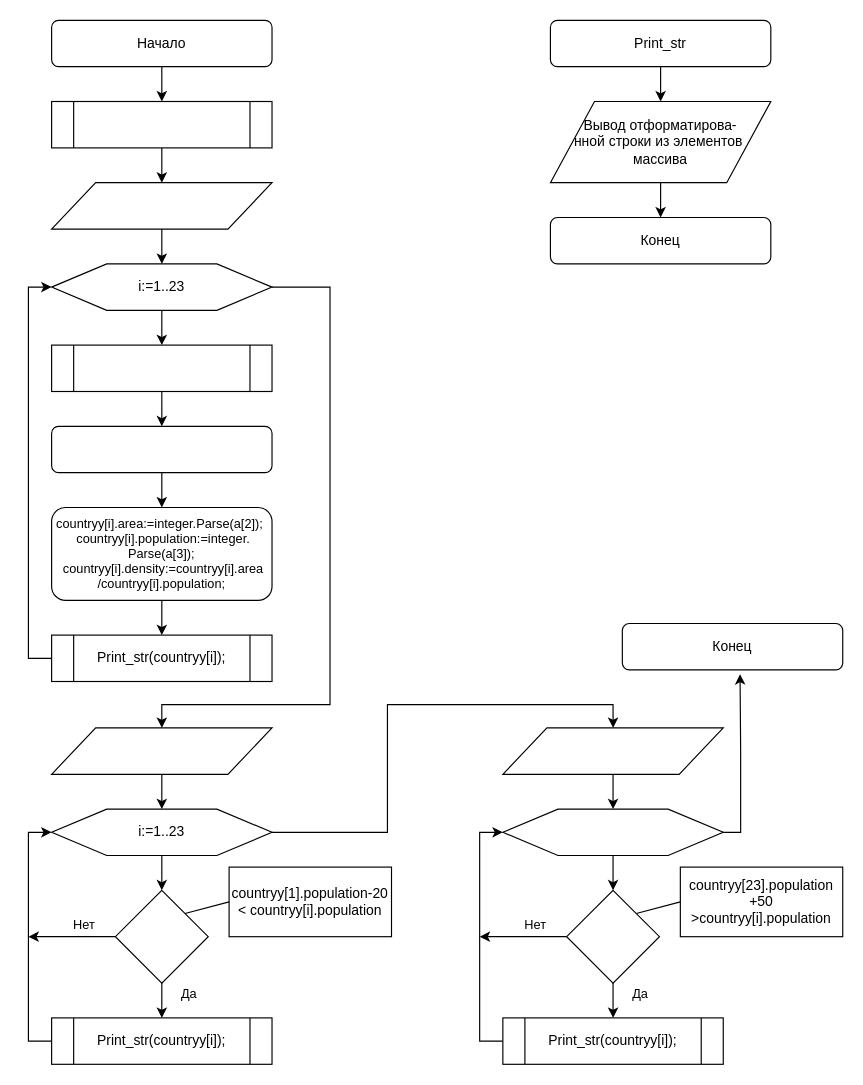
This 863x1085 diagram has some shape labels left out. The shapes that lost their labels are listed below. From the top down, each one's box as (x1, y1, x2, y2) in pixels, then its label:
(50, 100, 272, 148): Reset(countries, path);
(50, 182, 272, 229): Вывод заголовка таблицы
(50, 344, 272, 392): Readln(countries,b); a:=b.Split(',');
(50, 425, 272, 473): countryy[i].name:=a[0]; countryy[i].capital:=a[1];
(50, 727, 272, 774): Вывод "С наибольшей"
(502, 727, 723, 774): Вывод "С наименьшей"
(502, 808, 723, 855): i:=23..1
